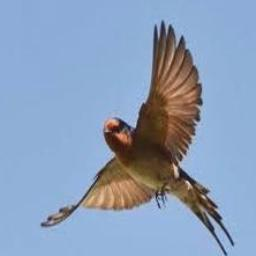Swallow: (39, 21, 234, 256)
